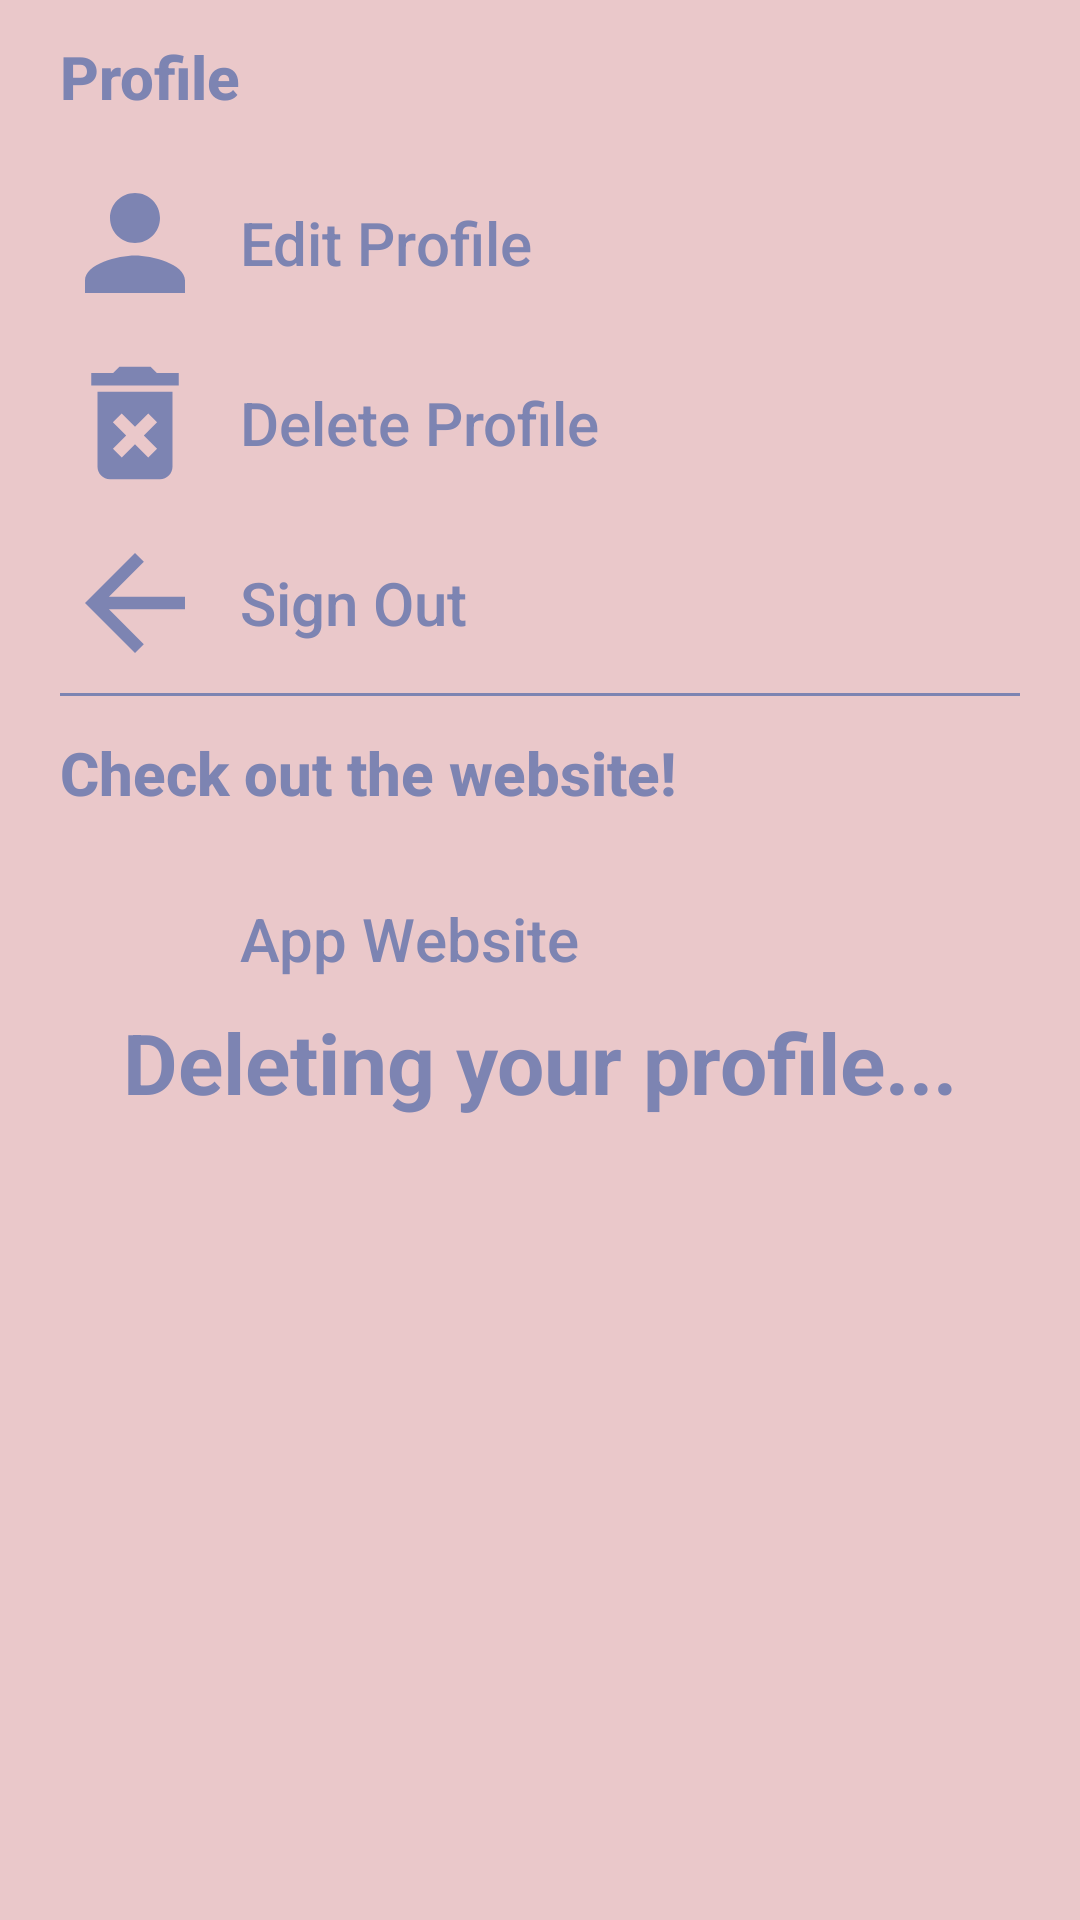

Point at icon controls on the screen. Image size 1080px x 1920px, points as point (x, y).
arrow back: point (135, 603)
person: point (135, 243)
